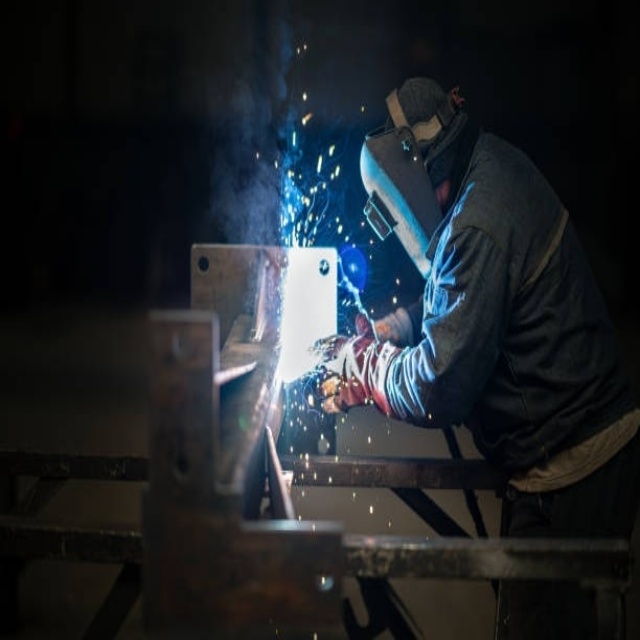Guantes: (305, 303, 405, 427)
